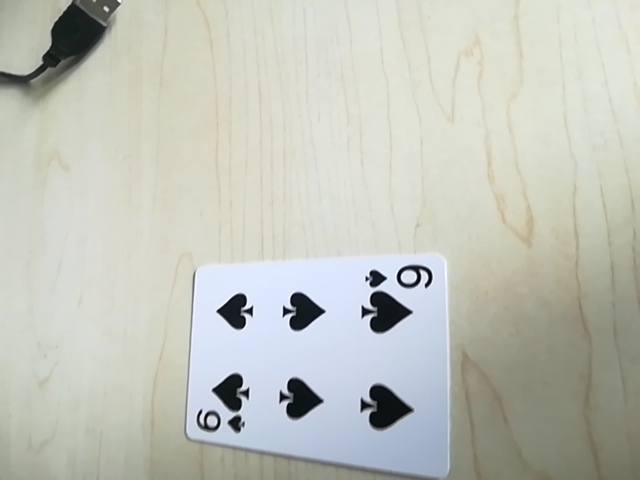ht 6: (363, 258, 439, 292), (190, 408, 248, 439)
